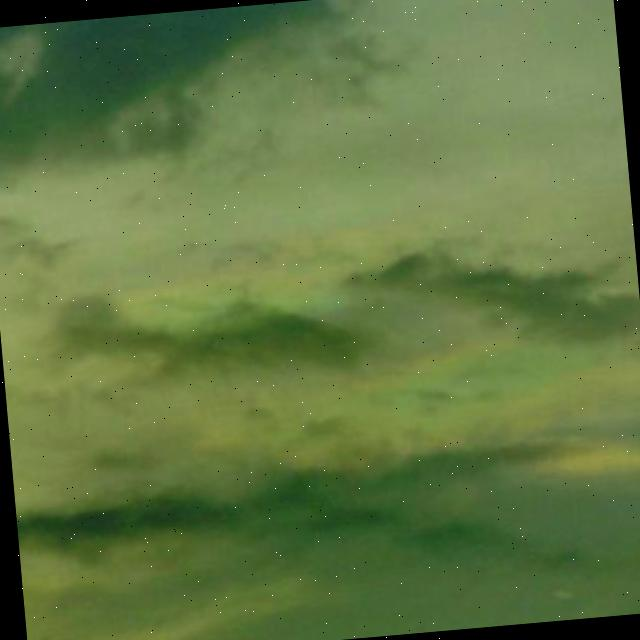Cs: (1, 1, 640, 549)
